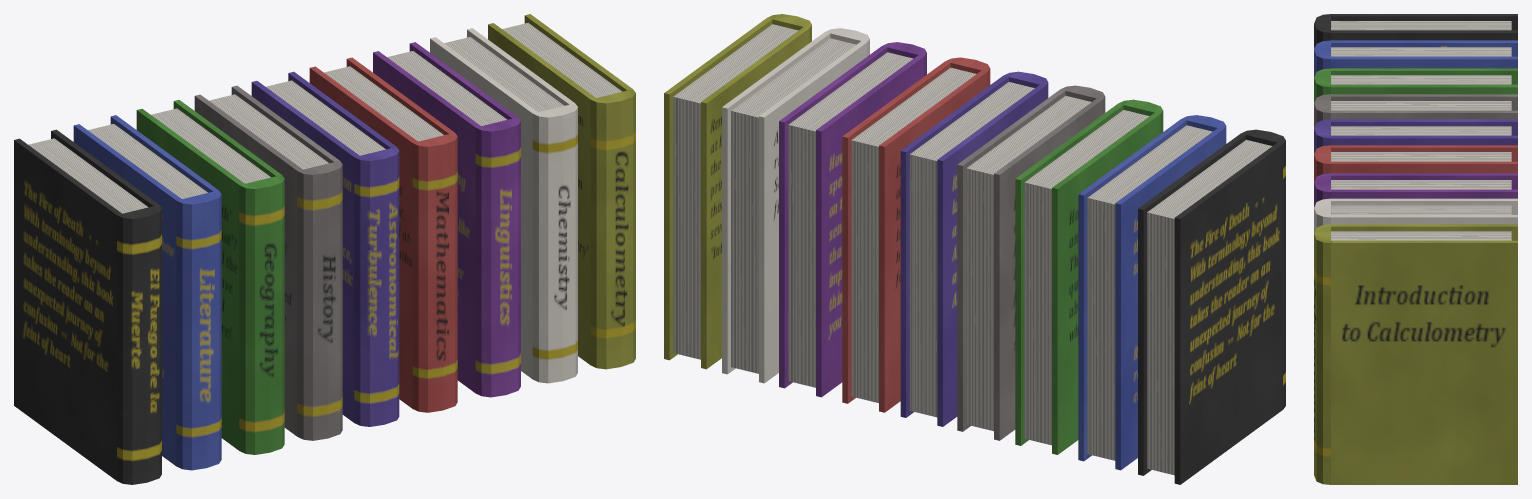
Rendered from Book Group.fbx.
3 views of the same model, side by side, from view 1: azimuth 30°, elevation 25°; view 2: azimuth 150°, elevation 25°; view 3: azimuth 270°, elevation 25° (orthographic). The views are drawn at different scales.
Parts seen in each view (by area): view 1: Book Black, Book Green, Book Violet, Book Blue, Book Red, Book Grey, Book Yellow, Book Purple, Book White; view 2: Book Black, Book Green, Book Violet, Book Blue, Book Red, Book Grey, Book Yellow, Book Purple, Book White; view 3: Book Yellow, Book Red, Book Blue, Book Black, Book Purple, Book Green, Book White, Book Violet, Book Grey.
Boxes of the visible parts, x1=… form: Book Black: x1=14, y1=129, x2=161, y2=484; Book Green: x1=136, y1=100, x2=284, y2=454; Book Violet: x1=373, y1=42, x2=520, y2=397; Book Blue: x1=73, y1=115, x2=221, y2=470; Book Red: x1=309, y1=57, x2=457, y2=412; Book Grey: x1=194, y1=85, x2=342, y2=440; Book Yellow: x1=488, y1=14, x2=635, y2=369; Book Purple: x1=251, y1=71, x2=399, y2=426; Book White: x1=430, y1=28, x2=577, y2=383; Book Black: x1=1138, y1=129, x2=1285, y2=484; Book Green: x1=1015, y1=99, x2=1163, y2=454; Book Violet: x1=779, y1=42, x2=926, y2=397; Book Blue: x1=1078, y1=115, x2=1226, y2=470; Book Red: x1=842, y1=57, x2=990, y2=412; Book Grey: x1=957, y1=85, x2=1105, y2=440; Book Yellow: x1=664, y1=14, x2=811, y2=369; Book Purple: x1=900, y1=71, x2=1048, y2=426; Book White: x1=722, y1=28, x2=869, y2=383; Book Yellow: x1=1314, y1=224, x2=1517, y2=484; Book Red: x1=1314, y1=145, x2=1517, y2=182; Book Blue: x1=1314, y1=40, x2=1517, y2=77; Book Black: x1=1314, y1=14, x2=1517, y2=49; Book Purple: x1=1314, y1=119, x2=1517, y2=154; Book Green: x1=1314, y1=68, x2=1517, y2=103; Book White: x1=1314, y1=198, x2=1517, y2=233; Book Violet: x1=1314, y1=173, x2=1517, y2=207; Book Grey: x1=1314, y1=94, x2=1517, y2=128.
Bounding box in the file's own units: 1.14 × 0.5625 × 0.4294.
1 material, 1 textured.
